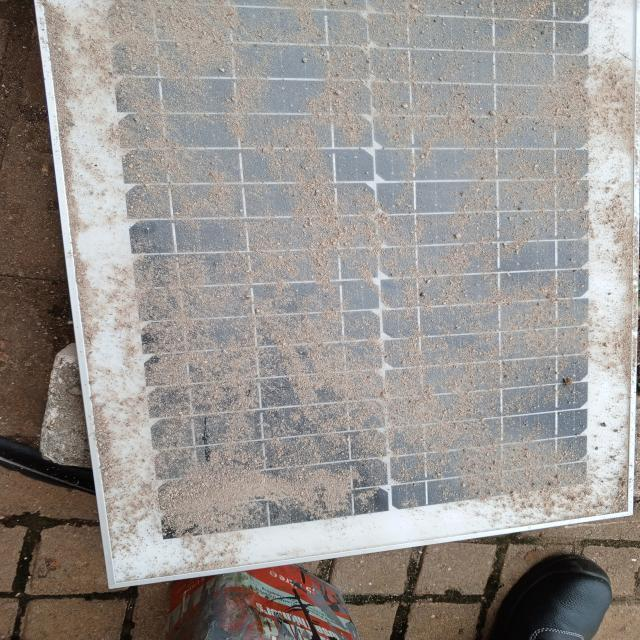Anomaly Solar Panel: (32, 3, 638, 593)
Surface Contaminant: (34, 0, 639, 580)
